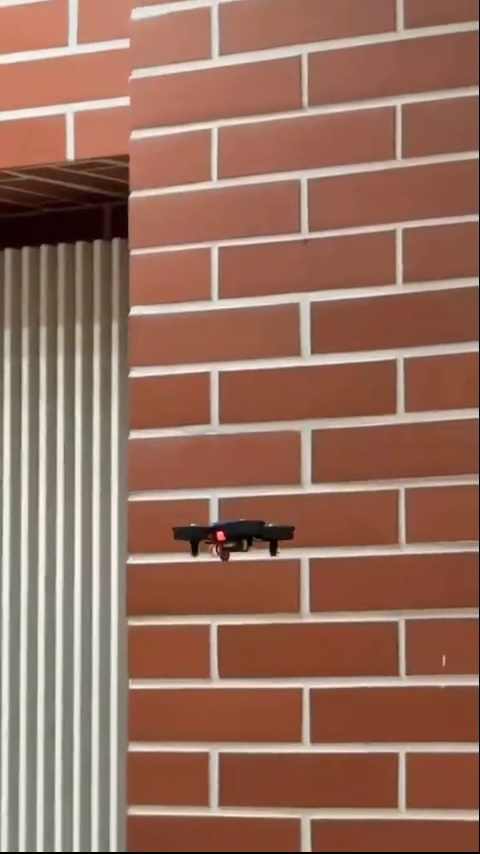drone: (172, 511, 295, 562)
